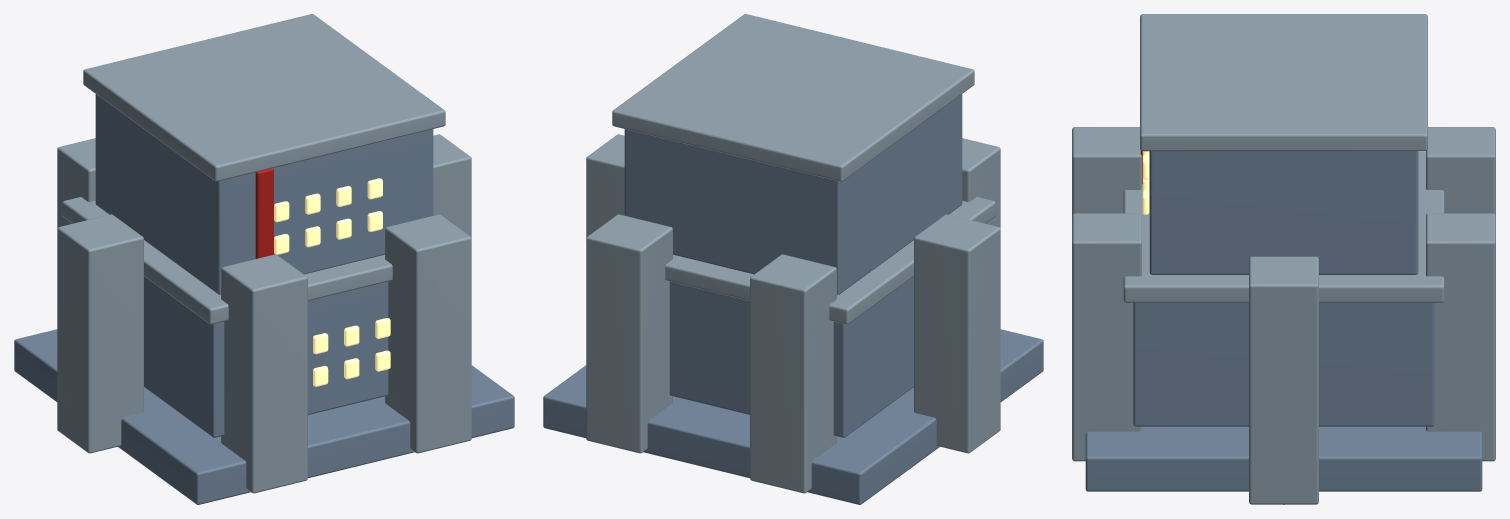
3 renders of one model, left to right at view 1: azimuth 30°, elevation 25°; view 2: azimuth 150°, elevation 25°; view 3: azimuth 270°, elevation 25°, orthographic. The views are drawn at different scales.
Visible parts, largest first — view 1: Block roof ledge.001, Modular block storey.001, Foundation slab, Block buttress.003, Block buttress.004, Block buttress.005, Modular block storey, Block roof ledge, Block buttress, Block buttress.002, Vertical block colour strip.001; view 2: Block roof ledge.001, Modular block storey.001, Foundation slab, Block buttress.003, Modular block storey, Block buttress.001, Block buttress.002, Block roof ledge, Block buttress, Block buttress.004; view 3: Block roof ledge.001, Modular block storey.001, Modular block storey, Foundation slab, Block buttress, Block buttress.001, Block buttress.005, Block roof ledge, Block buttress.002, Block buttress.004.
Boxes of the visible parts, <box> form: Block roof ledge.001: <box>83,14,445,181</box>; Modular block storey.001: <box>95,94,433,294</box>; Foundation slab: <box>14,329,514,504</box>; Block buttress.003: <box>57,214,143,453</box>; Block buttress.004: <box>221,254,307,493</box>; Block buttress.005: <box>385,214,471,453</box>; Modular block storey: <box>144,276,388,437</box>; Block roof ledge: <box>62,197,392,324</box>; Block buttress: <box>433,134,471,237</box>; Block buttress.002: <box>57,138,95,227</box>; Vertical block colour strip.001: <box>255,168,273,258</box>; Block roof ledge.001: <box>612,14,974,181</box>; Modular block storey.001: <box>624,94,962,294</box>; Foundation slab: <box>543,329,1043,504</box>; Block buttress.003: <box>914,214,1000,453</box>; Modular block storey: <box>669,276,913,437</box>; Block buttress.001: <box>586,214,672,453</box>; Block buttress.002: <box>750,254,836,493</box>; Block roof ledge: <box>665,197,995,324</box>; Block buttress: <box>586,134,624,237</box>; Block buttress.004: <box>962,138,1000,227</box>; Block roof ledge.001: <box>1140,14,1427,151</box>; Modular block storey.001: <box>1149,151,1418,274</box>; Modular block storey: <box>1133,303,1434,426</box>; Foundation slab: <box>1085,426,1482,491</box>; Block buttress: <box>1249,256,1318,504</box>; Block buttress.001: <box>1426,213,1495,461</box>; Block buttress.005: <box>1072,213,1141,461</box>; Block roof ledge: <box>1123,151,1444,302</box>; Block buttress.002: <box>1426,127,1495,215</box>; Block buttress.004: <box>1072,127,1141,215</box>.
Size of the model in its own units: 2.46 by 1.9 by 2.18.
